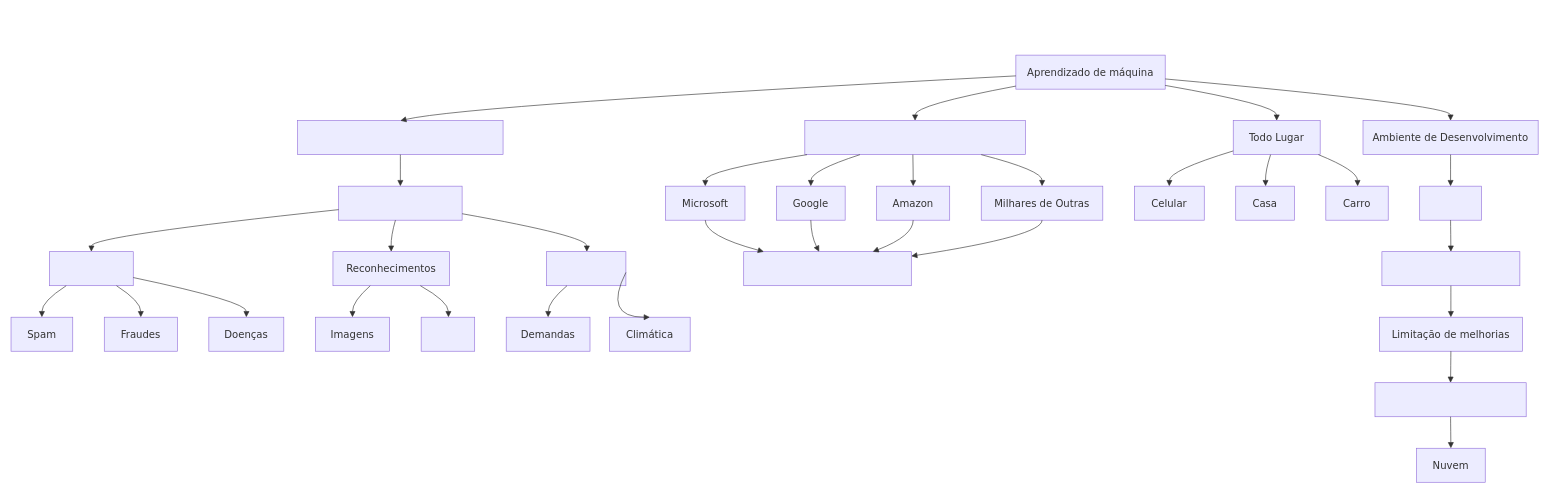
This 1549x493 diagram has some shape labels left out. Here are the shapes that lost their labels. From the top down, the centre of each, then its label:
At (x=400, y=137): "Software tradicional não é suficiente".
At (x=914, y=137): "Empresas de todos os tamanhos utilizam".
At (x=400, y=203): "Padrões complexos".
At (x=1450, y=203): "Local".
At (x=91, y=268): "Detecções".
At (x=586, y=268): "Previsões".
At (x=827, y=268): "Melhorar produtos e serviços".
At (x=1450, y=268): "Limitação de Recursos".
At (x=448, y=334): "Voz".
At (x=1450, y=399): "Necessário mais Recursos".
